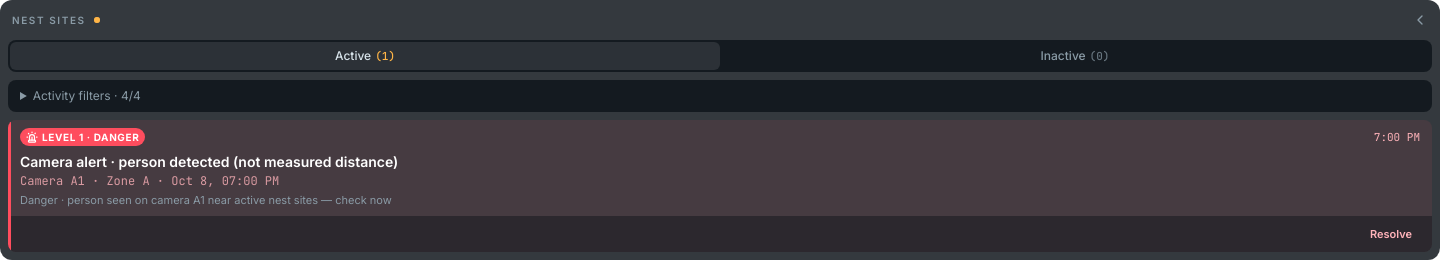
Scenario: AlertsFeed camera-level danger › resolves for volunteers and admins only
Click the button with aria-label "Resolve camera alert on camera A1" at (1391, 234), box 1362,222 -> 1420,246
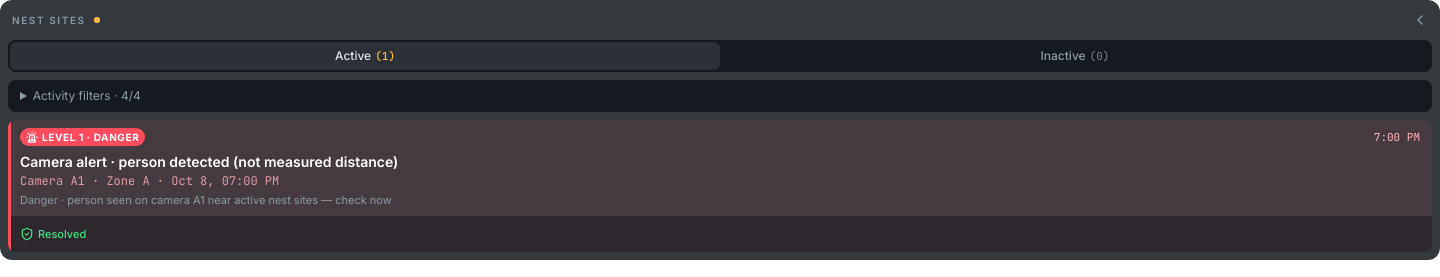
Check: the text "Resolved" is shown, box 20,227 -> 86,241
